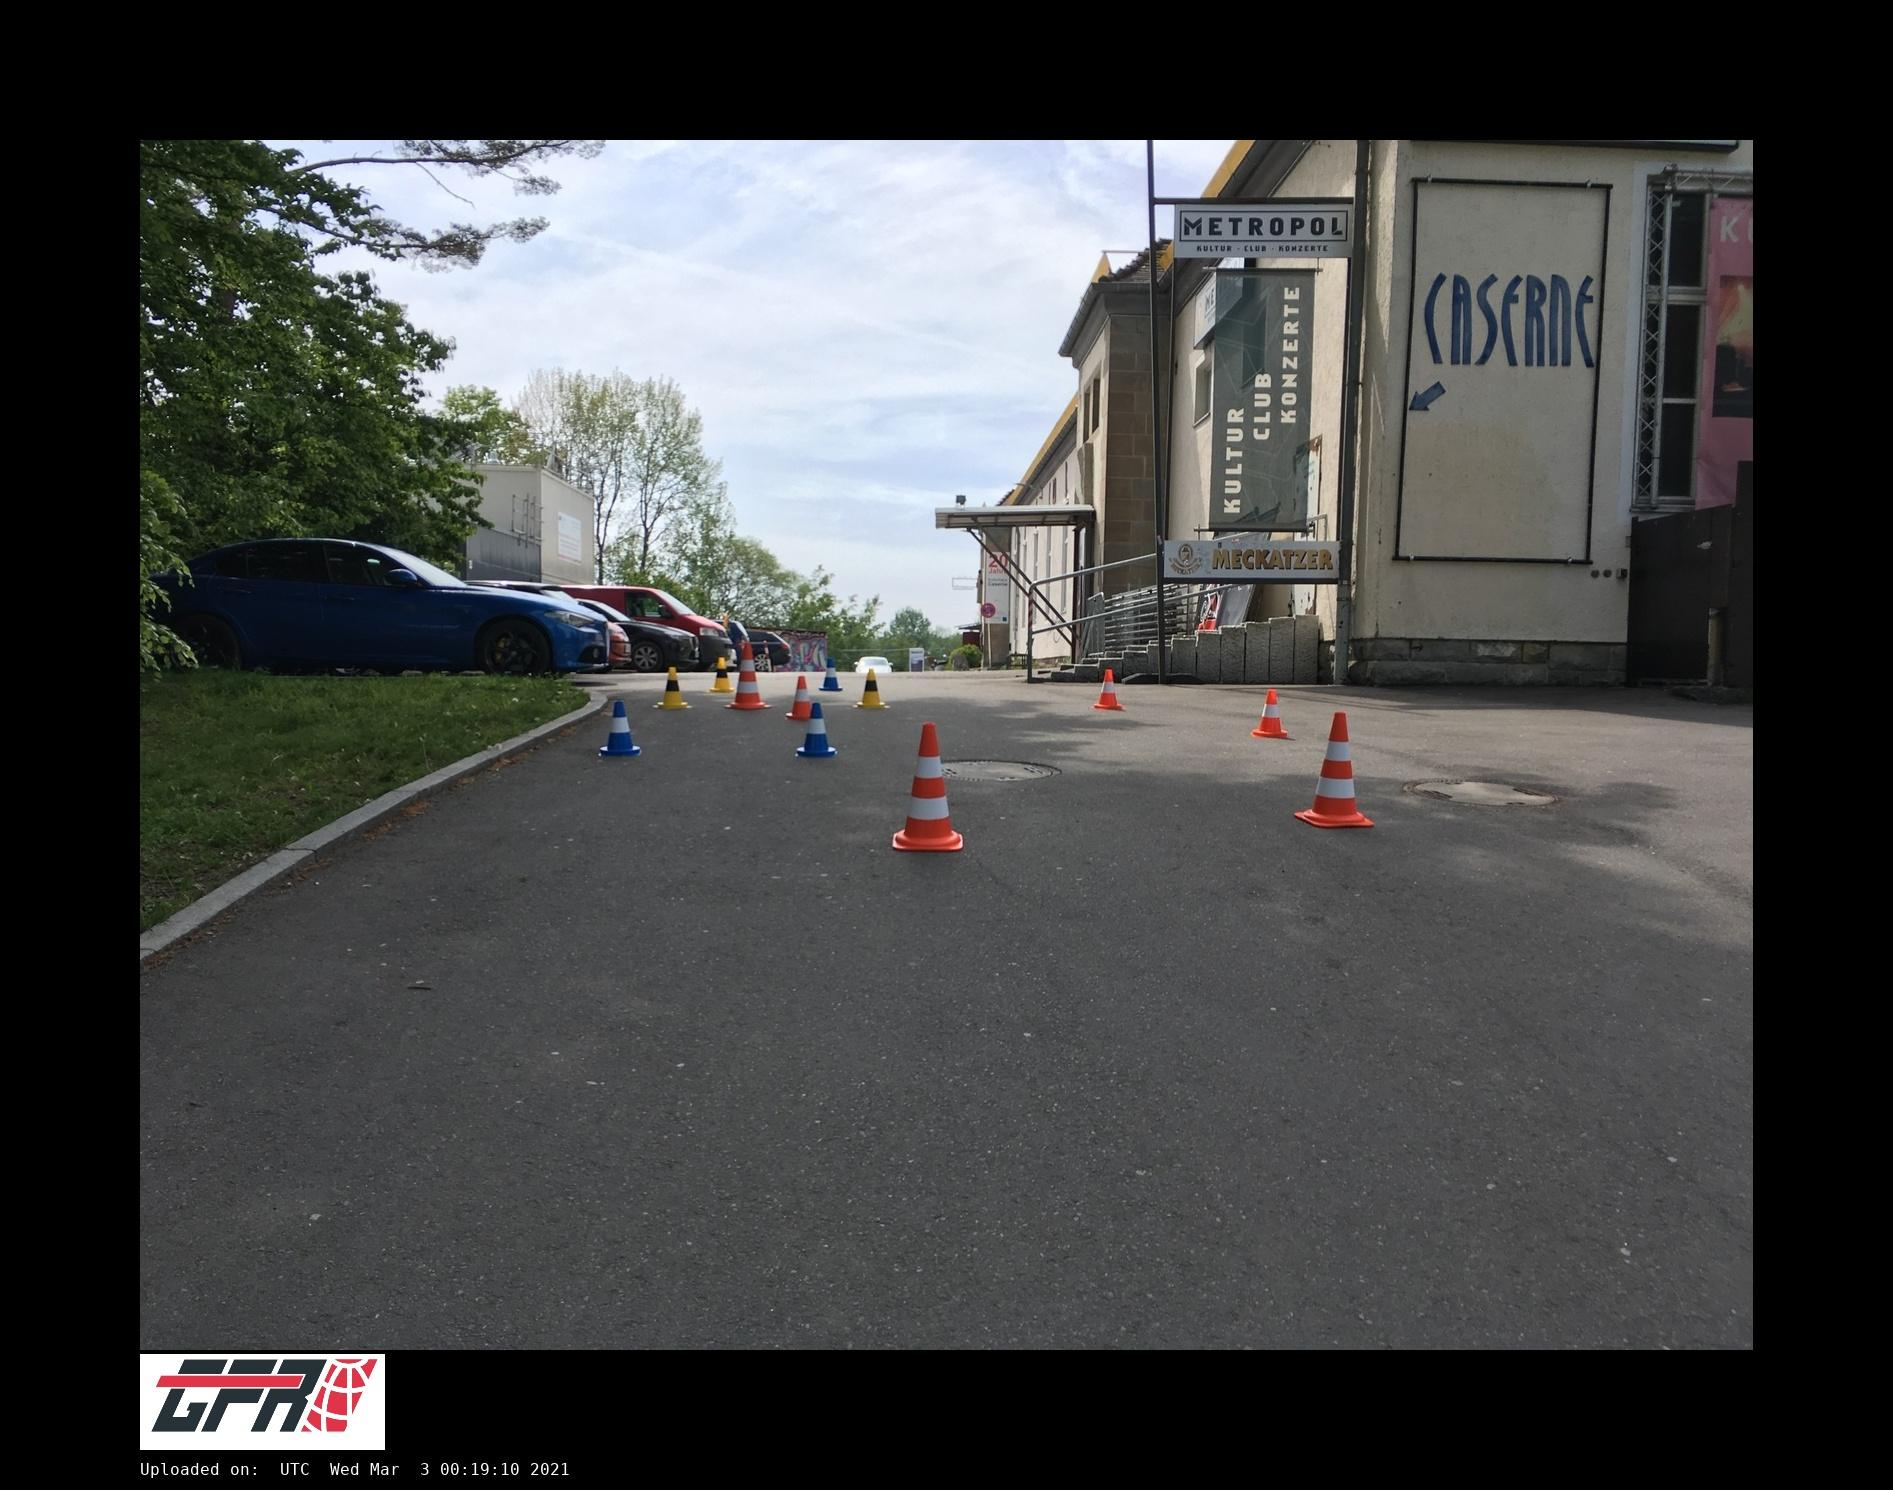blue_cone: (599, 700, 642, 757), (796, 704, 837, 757), (819, 657, 842, 691)
large_orange_cone: (1298, 710, 1374, 828), (894, 723, 963, 849), (724, 644, 771, 710)
orange_cone: (1252, 690, 1288, 737), (1092, 670, 1122, 710), (785, 676, 811, 720)
yellow_cone: (653, 667, 693, 710), (854, 670, 891, 710), (710, 657, 734, 693)
